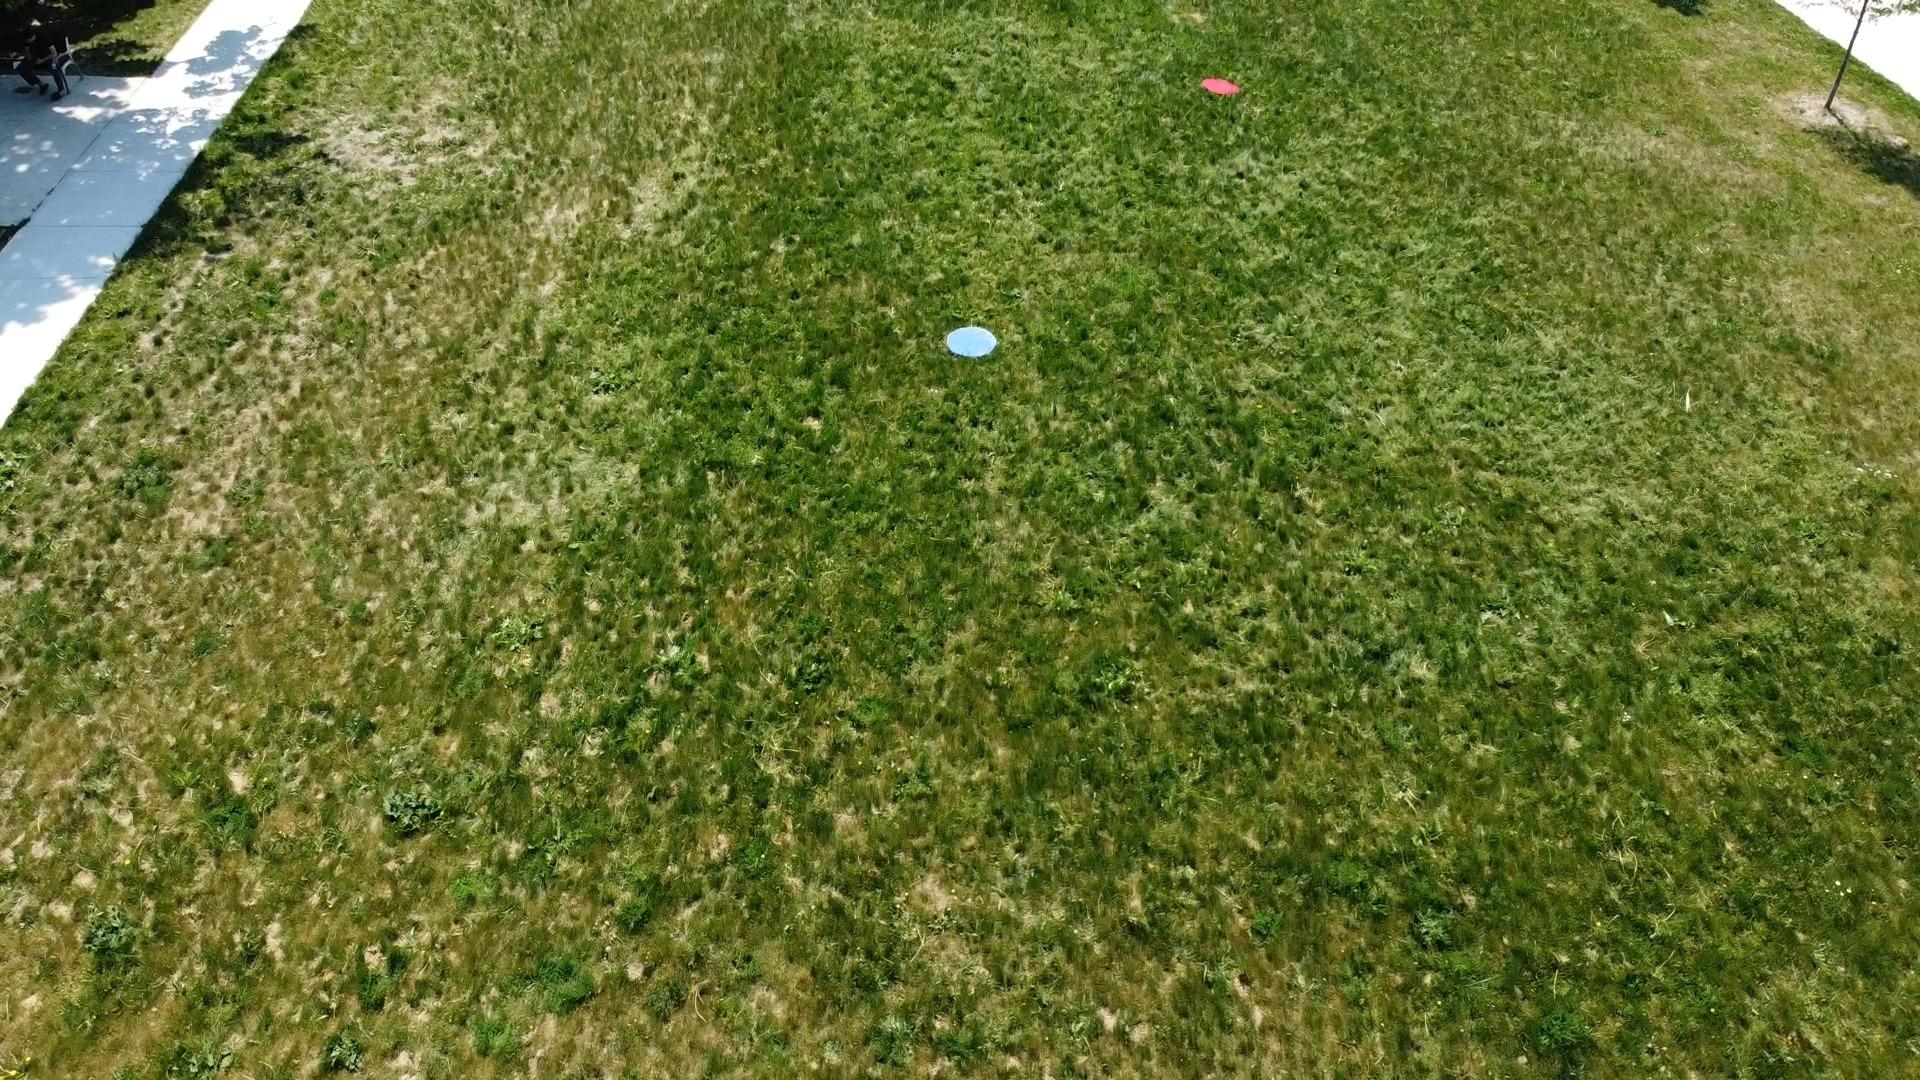Blue: (943, 324, 1001, 359)
Red: (1200, 75, 1245, 96)
